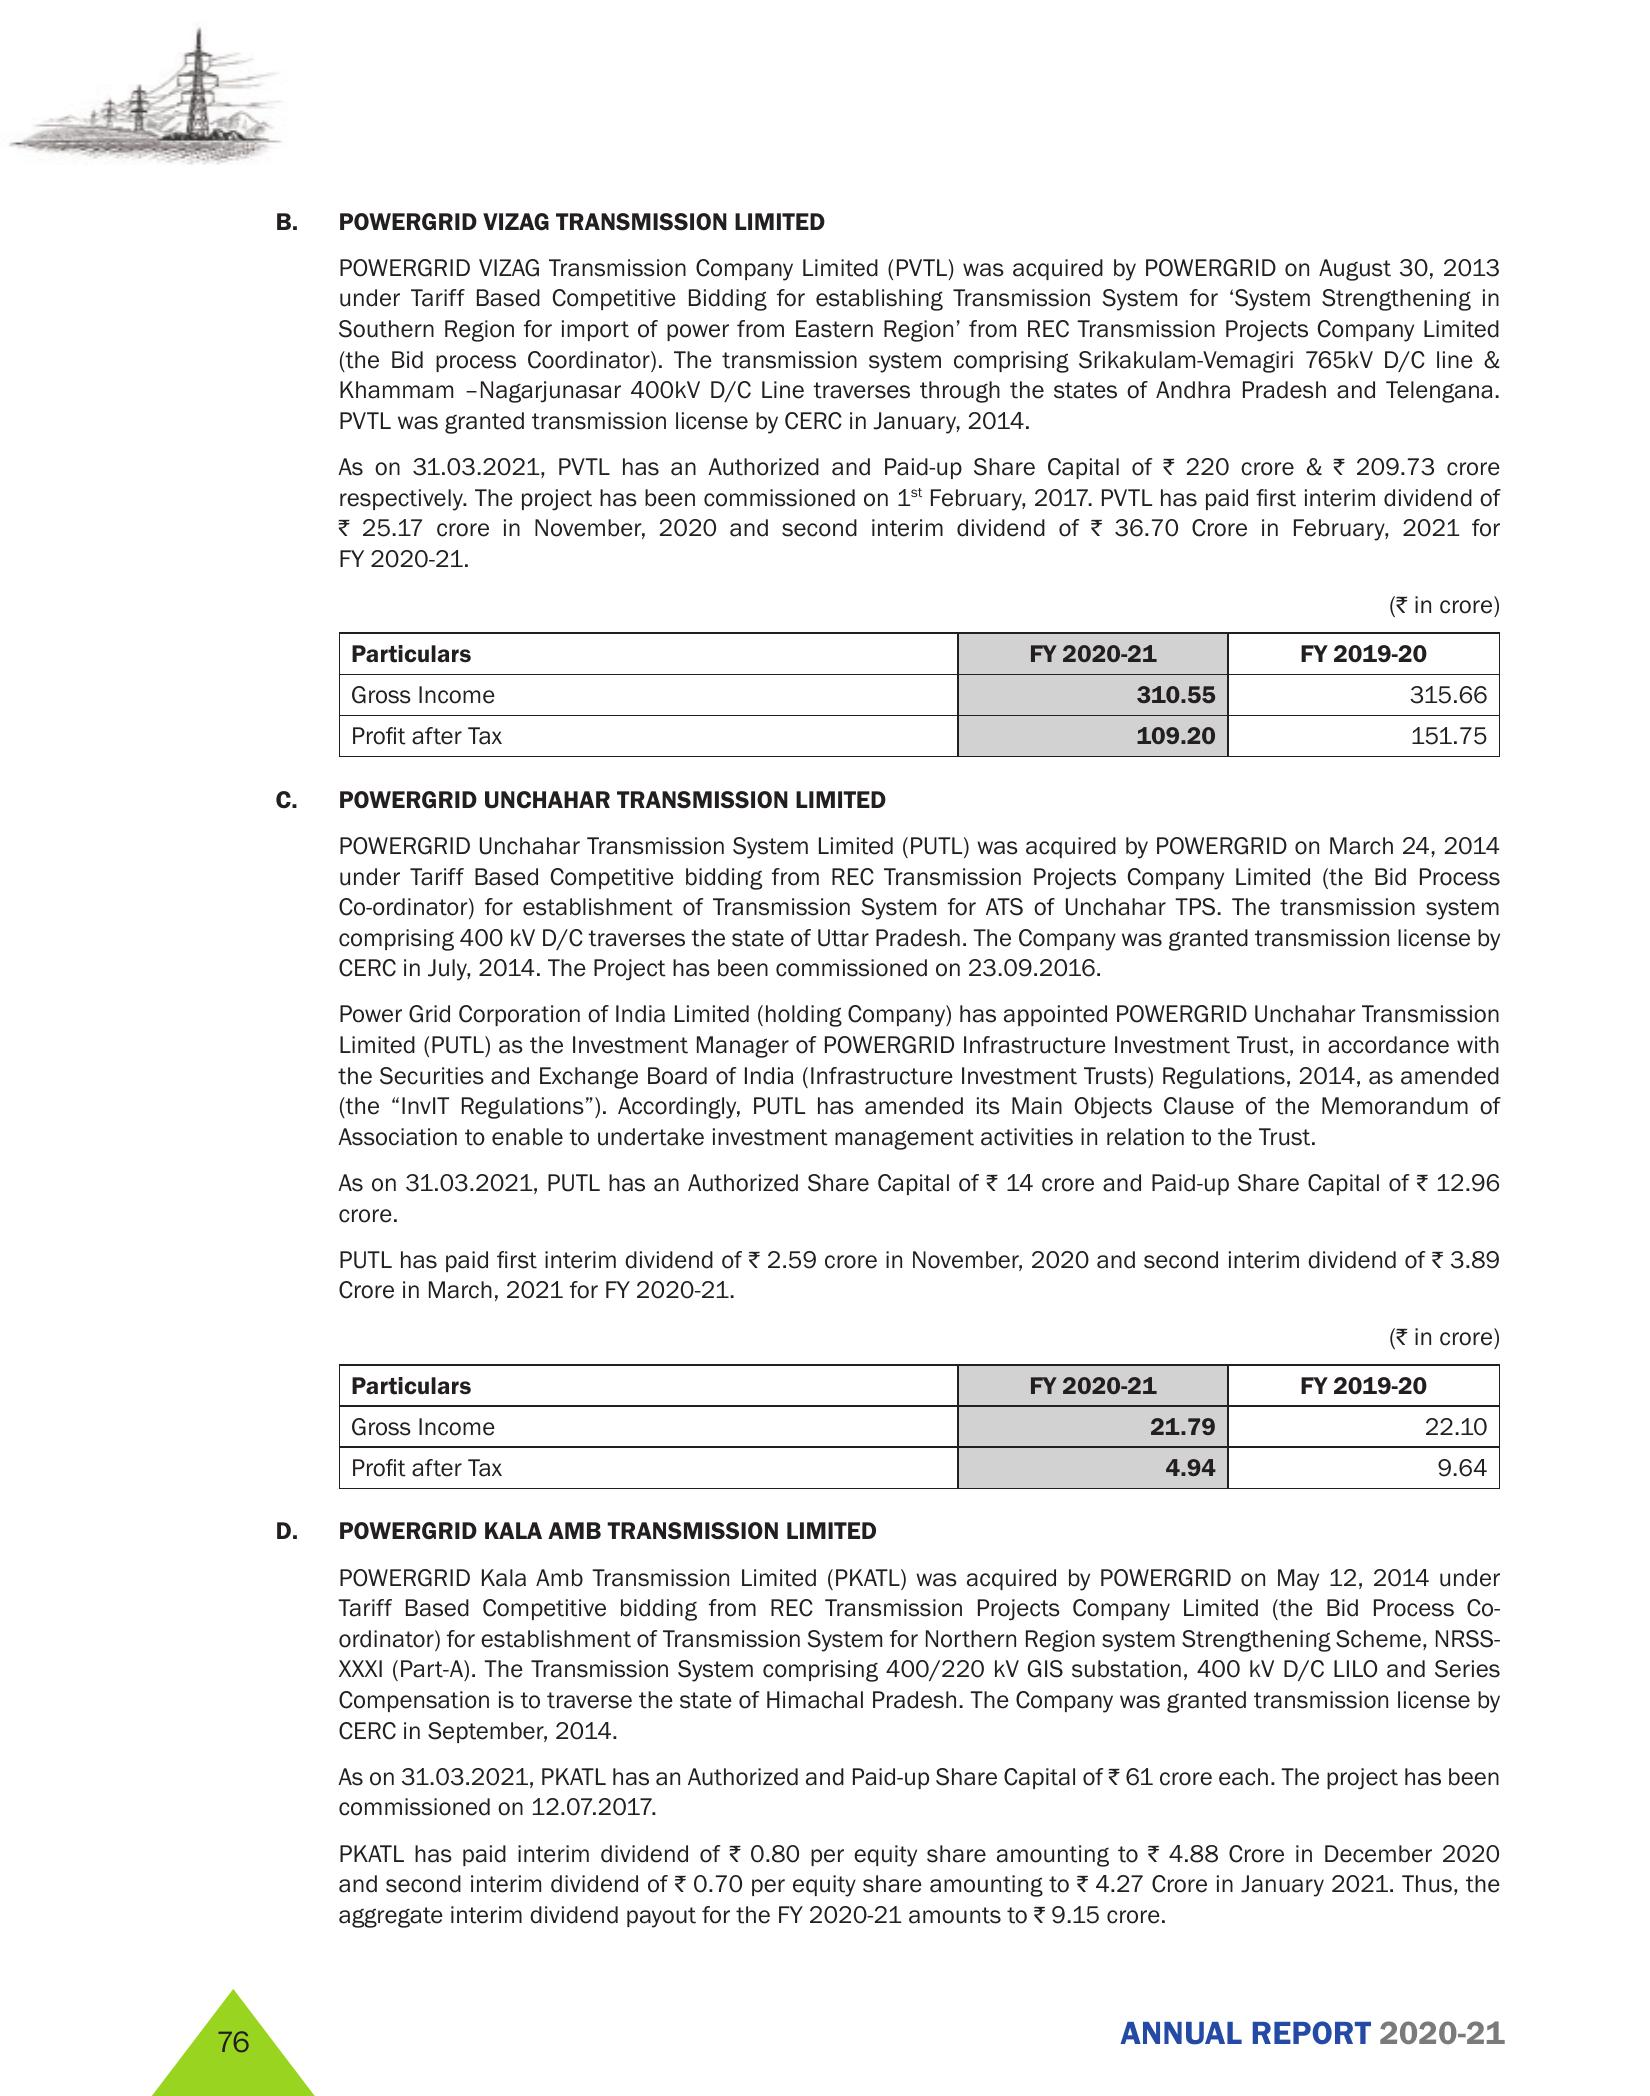Footer: (0, 1962, 1650, 2096)
Header: (0, 0, 1650, 184)
Table: (277, 1317, 1511, 1512), (257, 621, 1533, 764)
